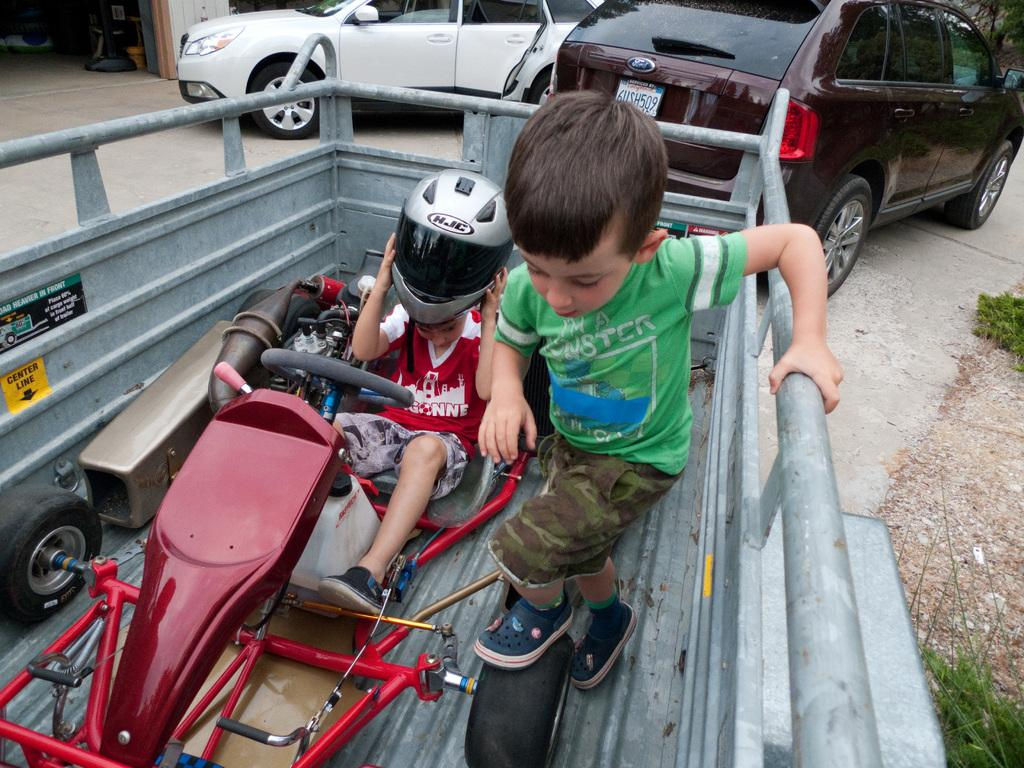helmet: (391, 169, 518, 327)
nohelmet: (504, 90, 668, 320)
